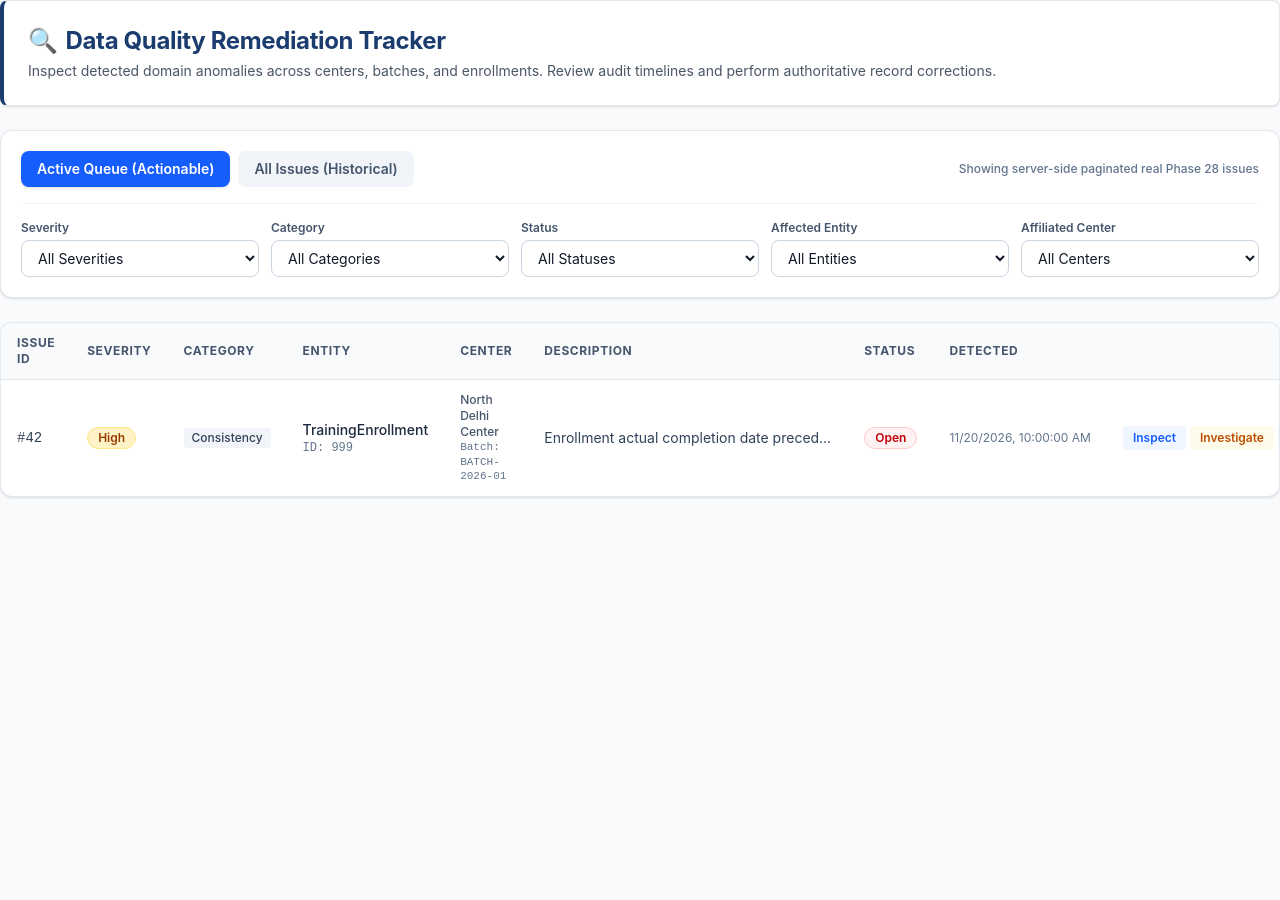
Test: Provider Data Quality Remediation Workbench › opens issue detail drawer with bounded timeline when Inspect is clicked
What coordinates should you click on to do the following:
click the button with test id "btn-inspect-42"
I would click on:
 (1154, 438)
Its box is x1=1123 y1=426 x2=1186 y2=450.
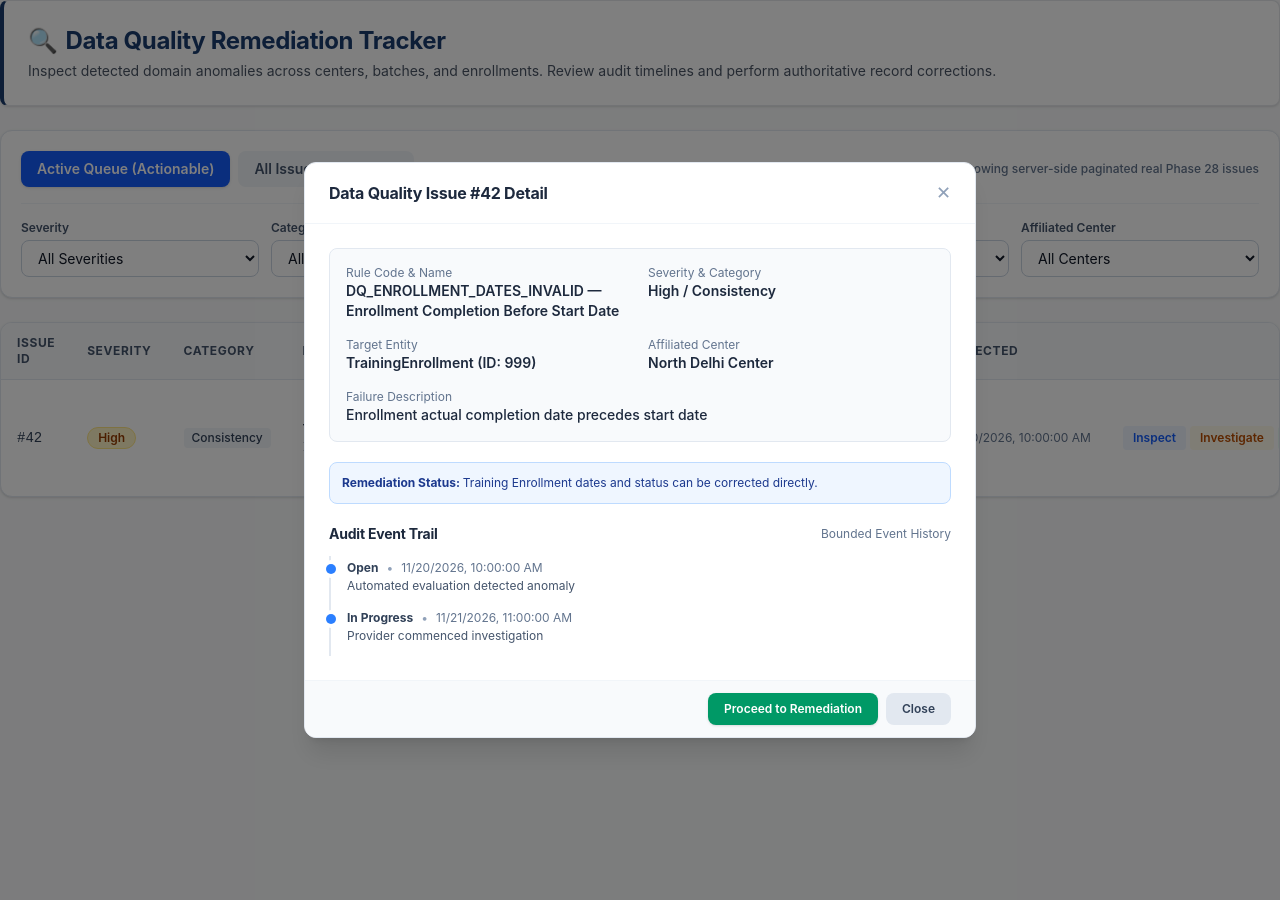
Now the heading "Data Quality Issue #42 Detail" is shown, box x1=329 y1=181 x2=548 y2=205
Now the heading "Audit Event Trail" is shown, box x1=329 y1=524 x2=438 y2=544
Now the text "Automated evaluation detected anomaly" is shown, box x1=347 y1=578 x2=575 y2=593
